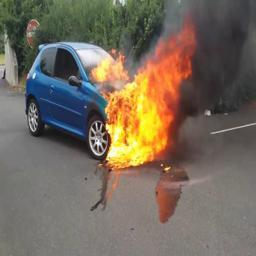fire: (91, 14, 195, 170)
